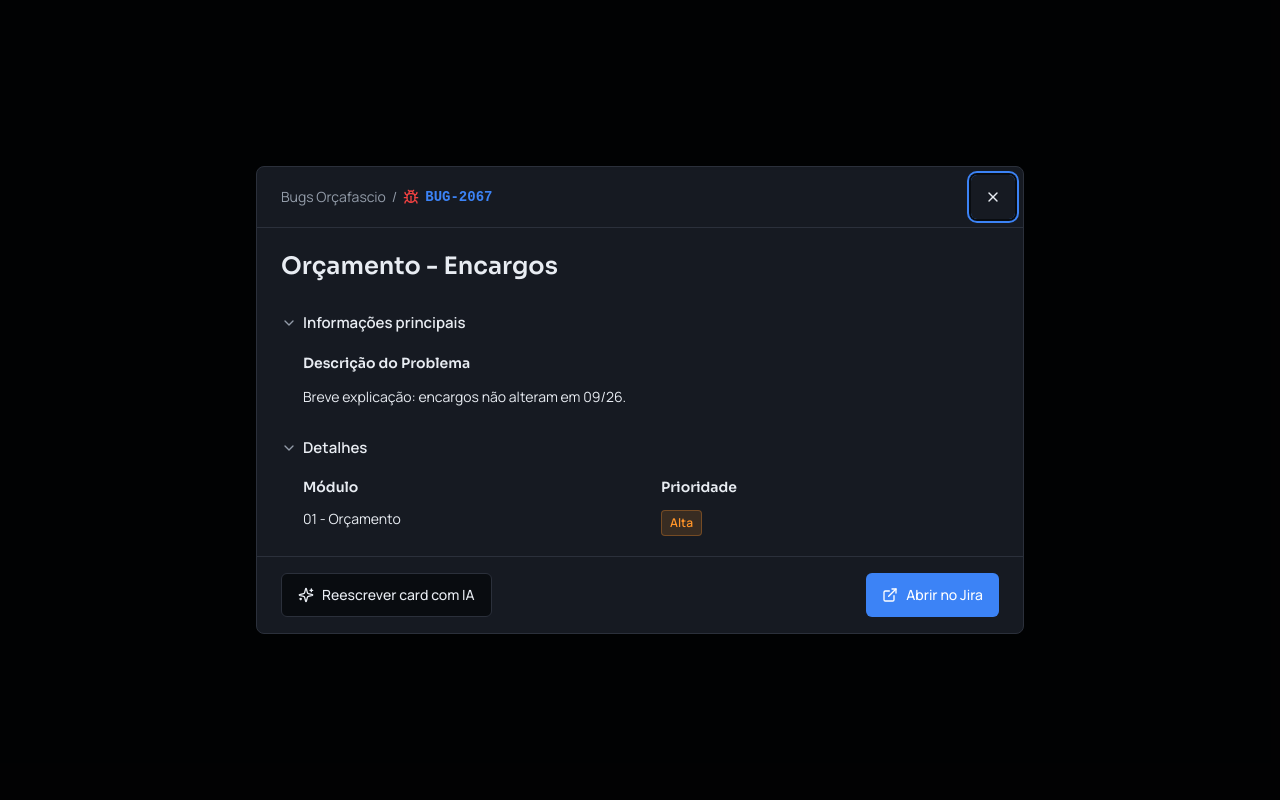
Test: Modal dividido › mostra original e reescrito lado a lado, com o card no padrão do QA
Later steps or results of the test are not shown.
Click the button "Reescrever card com IA": click(386, 595) [281,573,492,617]
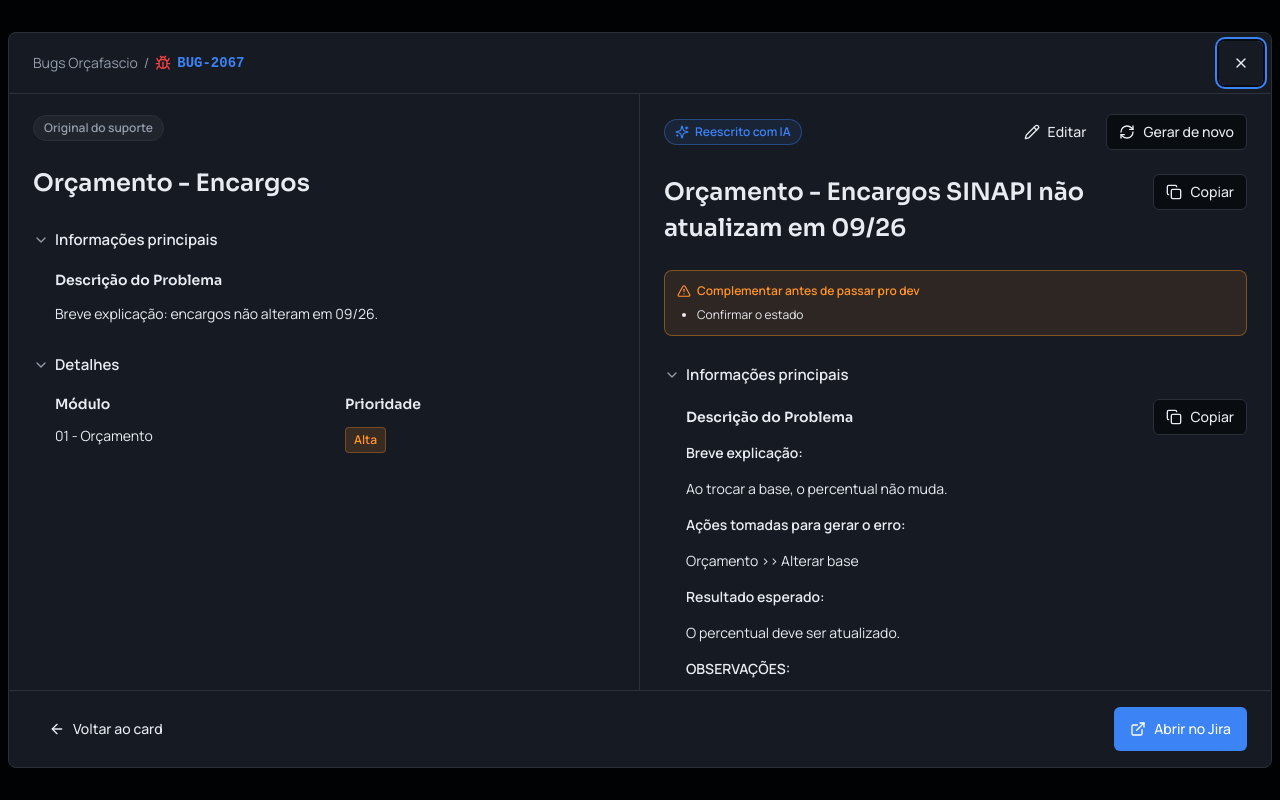
expect the heading "Orçamento - Encargos SINAPI não atualizam em 09/26" is shown: met, box [664,174,1142,246]
expect the text "Orçamento >> Alterar base" is shown: met, box [686,550,859,570]
expect the list item "Confirmar o estado" is shown: met, box [697,306,803,323]
